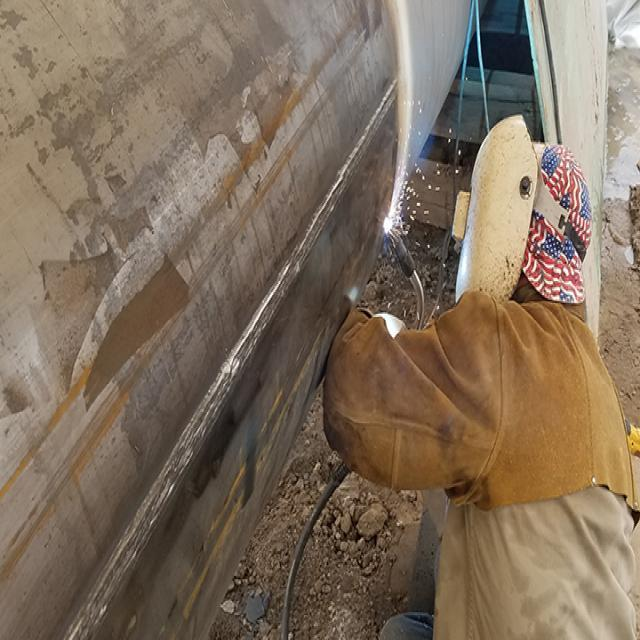with_helmet: (456, 116, 537, 299)
